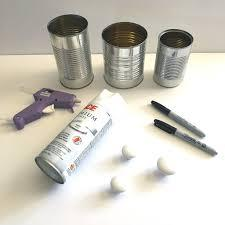Aerosols: (35, 91, 134, 196)
Tin: (33, 5, 212, 91)
